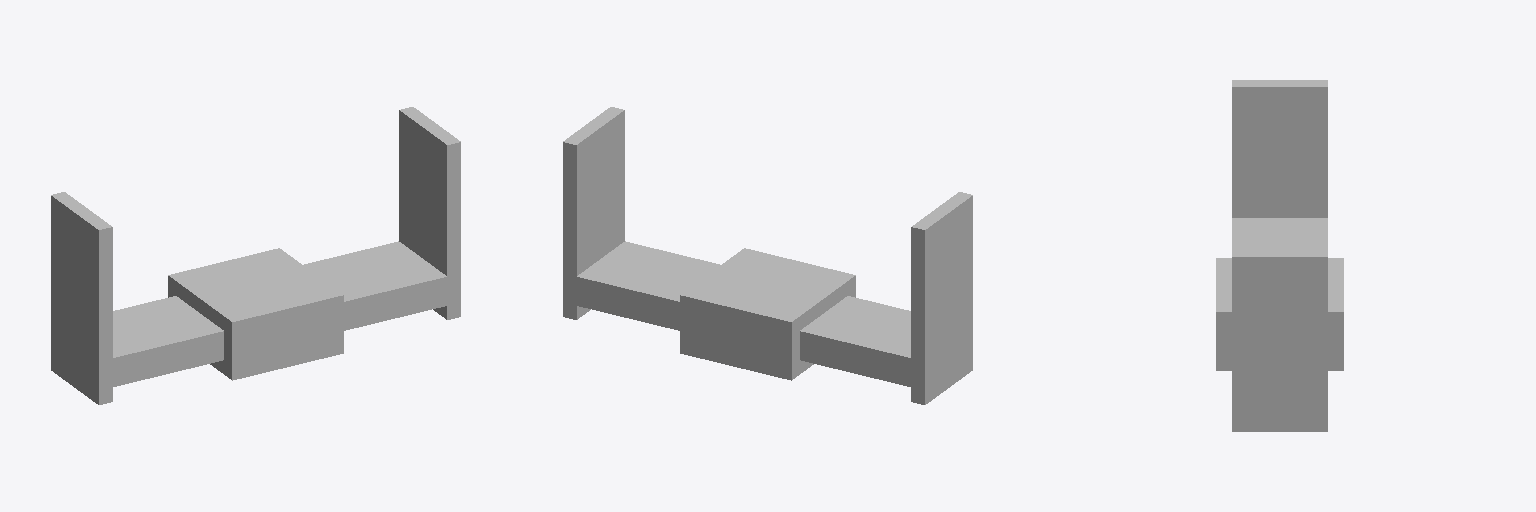
The model's file is solar_reflector_support.obj.
3 views of the same model, side by side, from view 1: azimuth 30°, elevation 25°; view 2: azimuth 150°, elevation 25°; view 3: azimuth 270°, elevation 25° (orthographic).
Parts seen in each view (by area): view 1: support; view 2: support; view 3: support.
Boxes of the visible parts, box(x1,y1,x2,y2) form: support: box(51, 107, 460, 404); support: box(563, 107, 972, 404); support: box(1216, 80, 1343, 431).
Size of the model in its own units: 3.25 by 1.5 by 1.